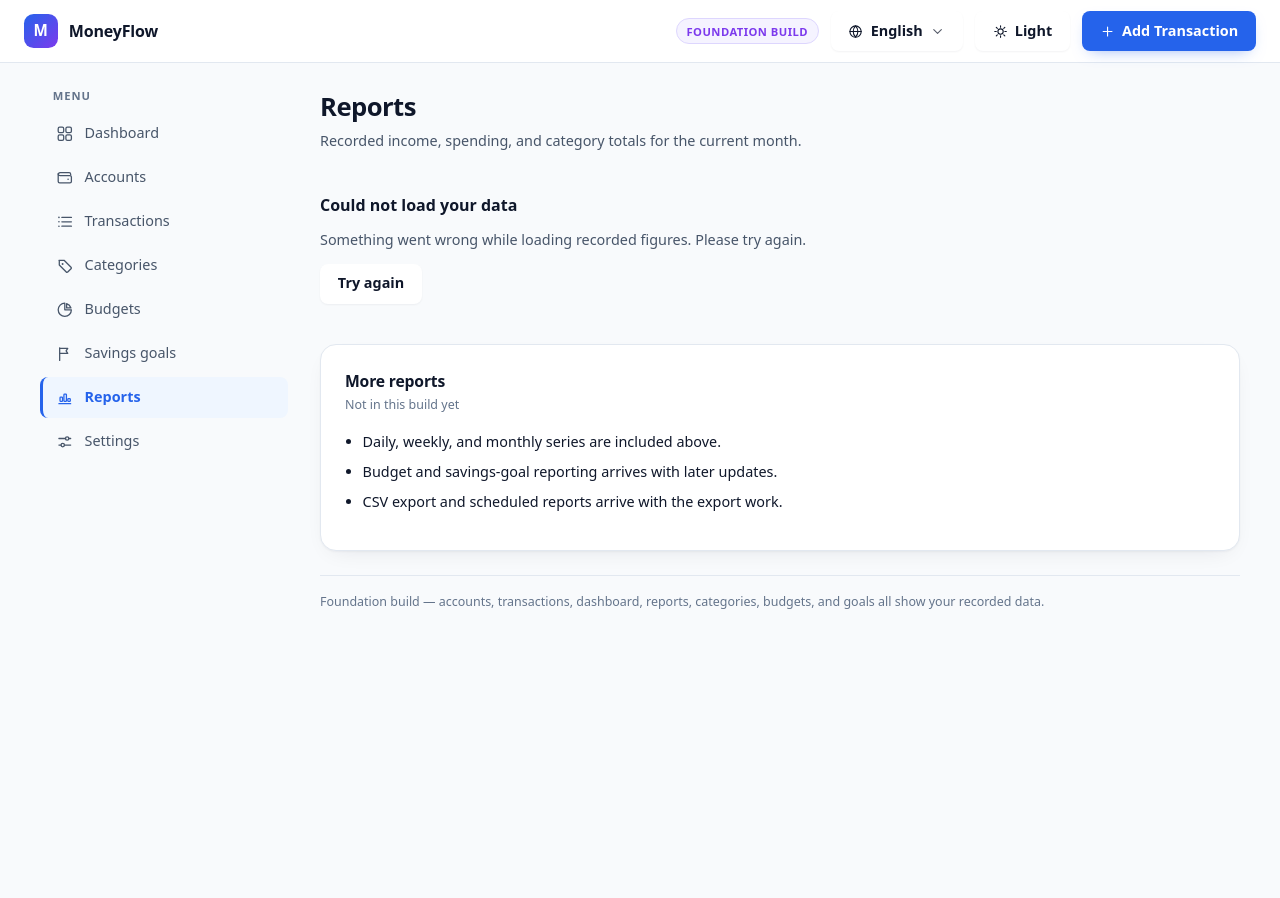
Test case: reports route (wired to the IT-8 report endpoints) › renders a calm error state and retries on demand
Expected: the text "Could not load your data" is shown, [320,192,517,217]
Click the button "Try again": (371, 284) [320,264,422,304]
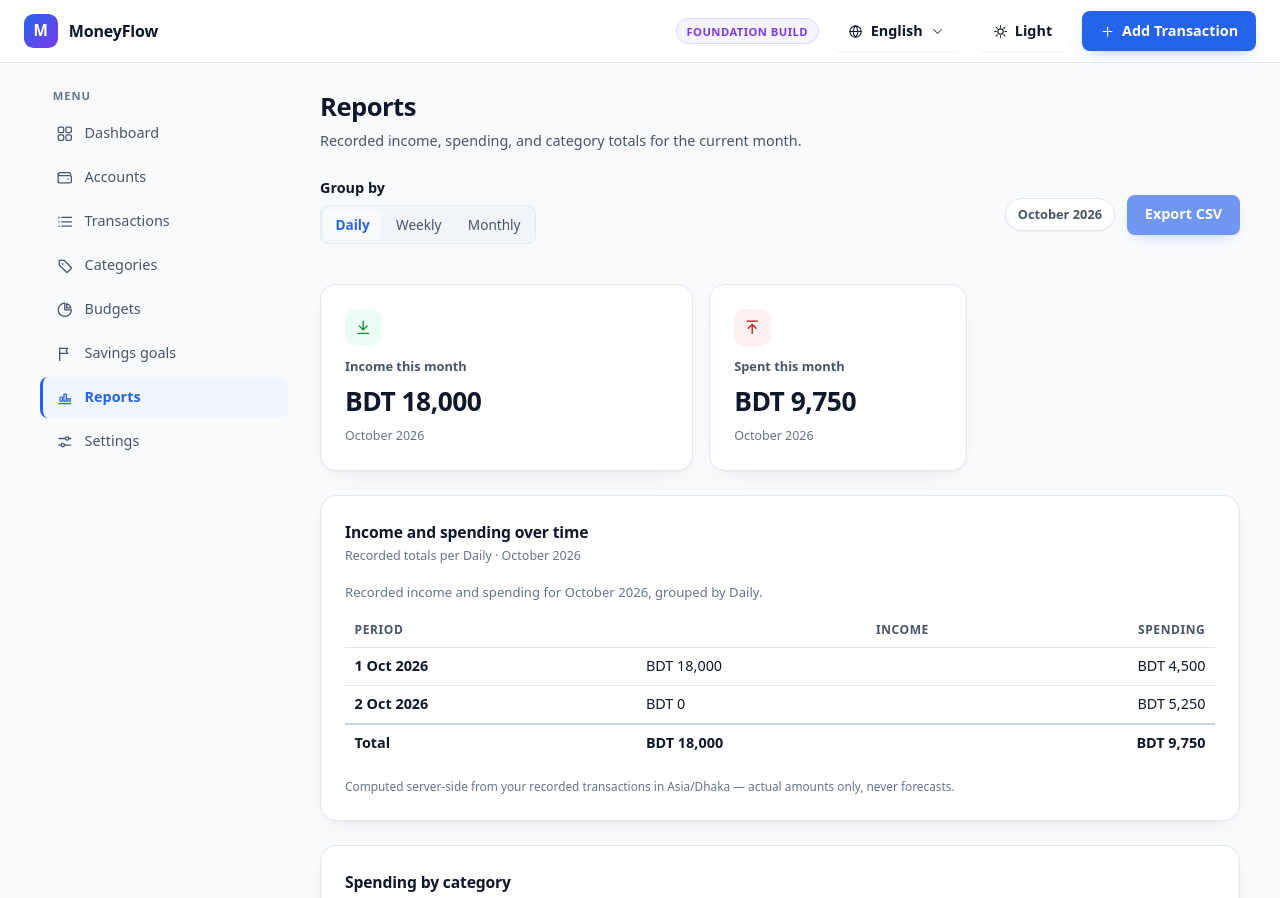
Expected: the table is shown, [345,582,1215,761]
